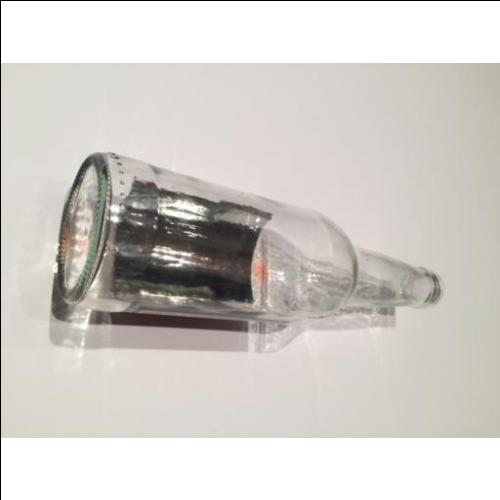glass: (57, 157, 443, 326)
